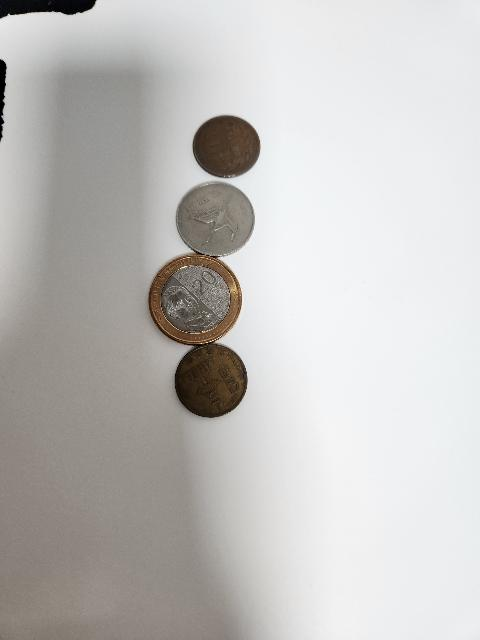coin: (150, 250, 242, 344), (170, 176, 260, 260), (172, 343, 248, 419), (192, 110, 260, 178)
